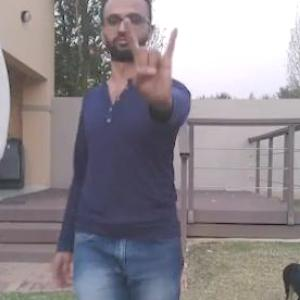takeoff-hand: (118, 19, 185, 106)
